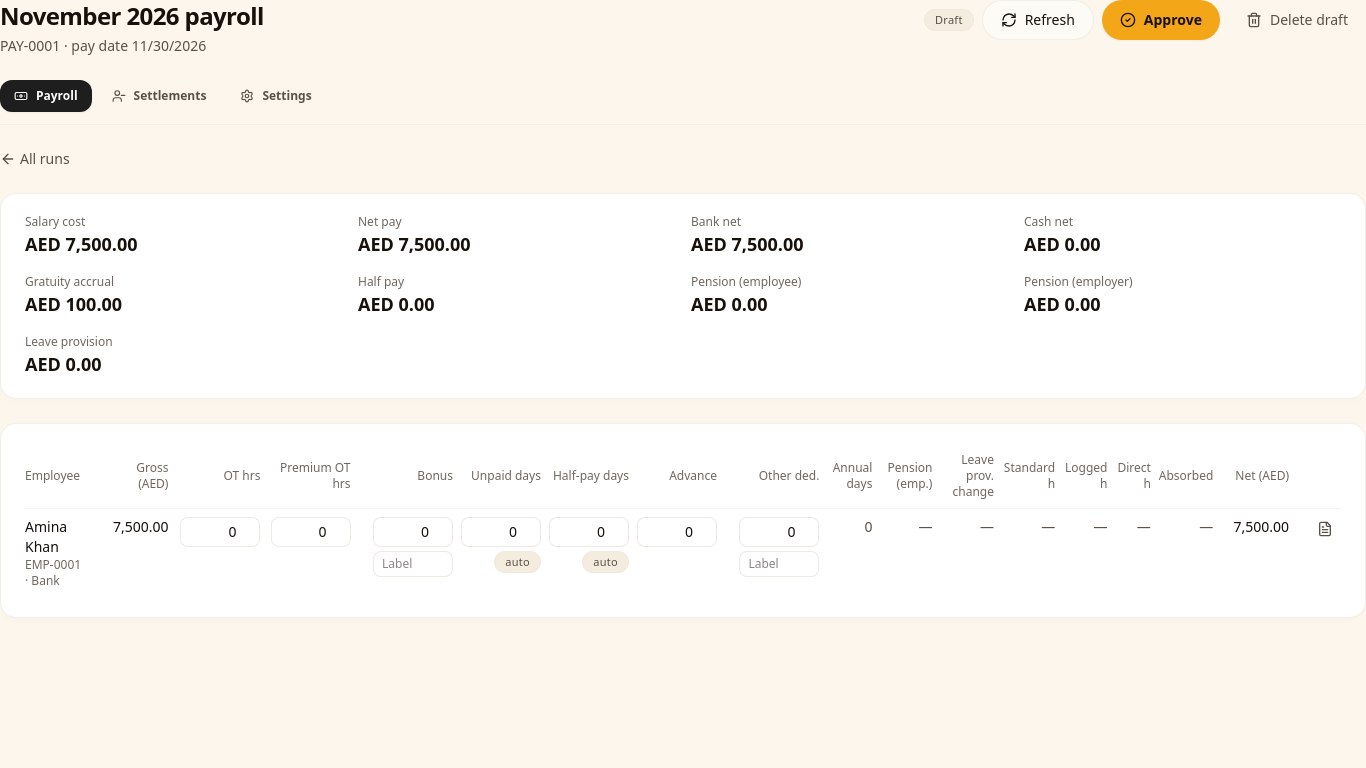
Test case: PayrollRunDetail actions › keeps Approve confirm disabled while a line edit was refused
Step 1. Replace the text in the number field named "Advance recovery for Amina Khan" with "500" → coordinates (677, 532), box x1=637 y1=517 x2=717 y2=547
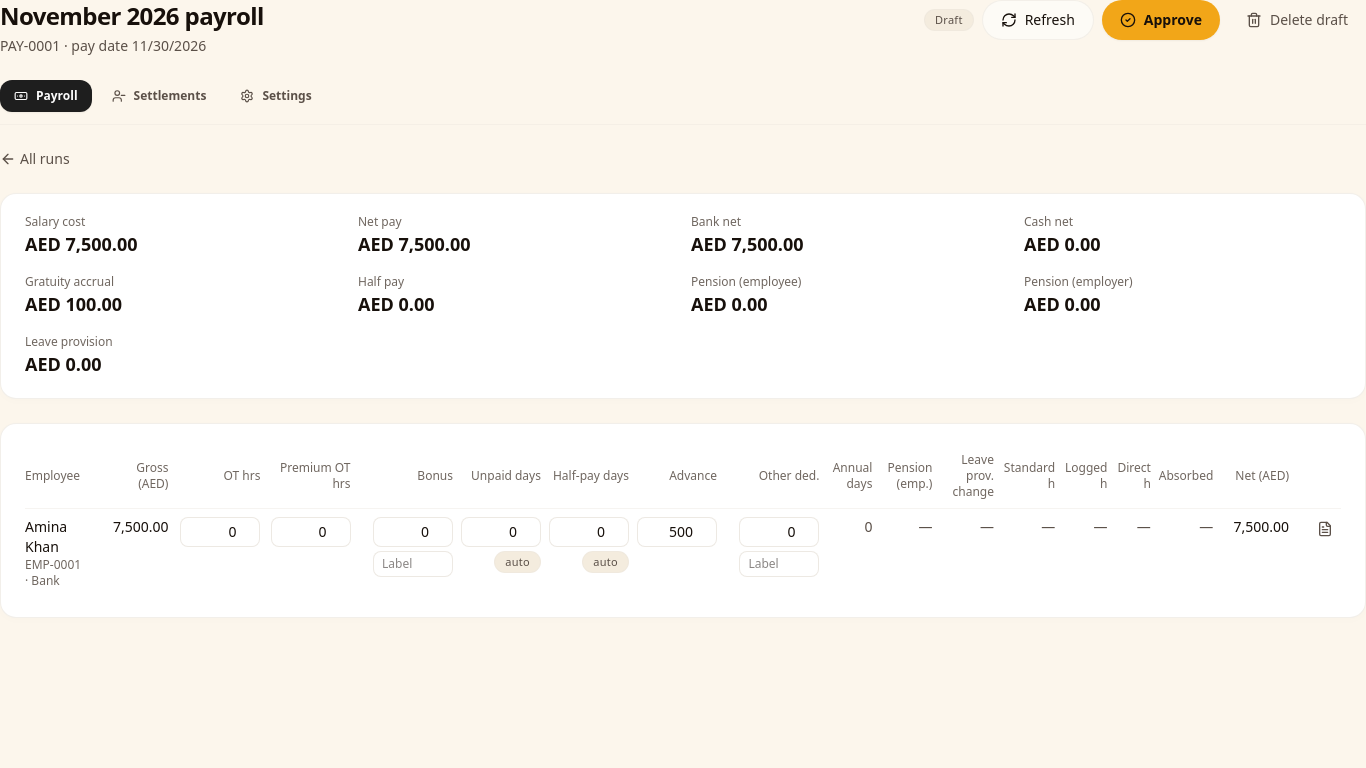
Step 2. Click the button "Approve" → coordinates (1161, 20), box x1=1102 y1=0 x2=1220 y2=40
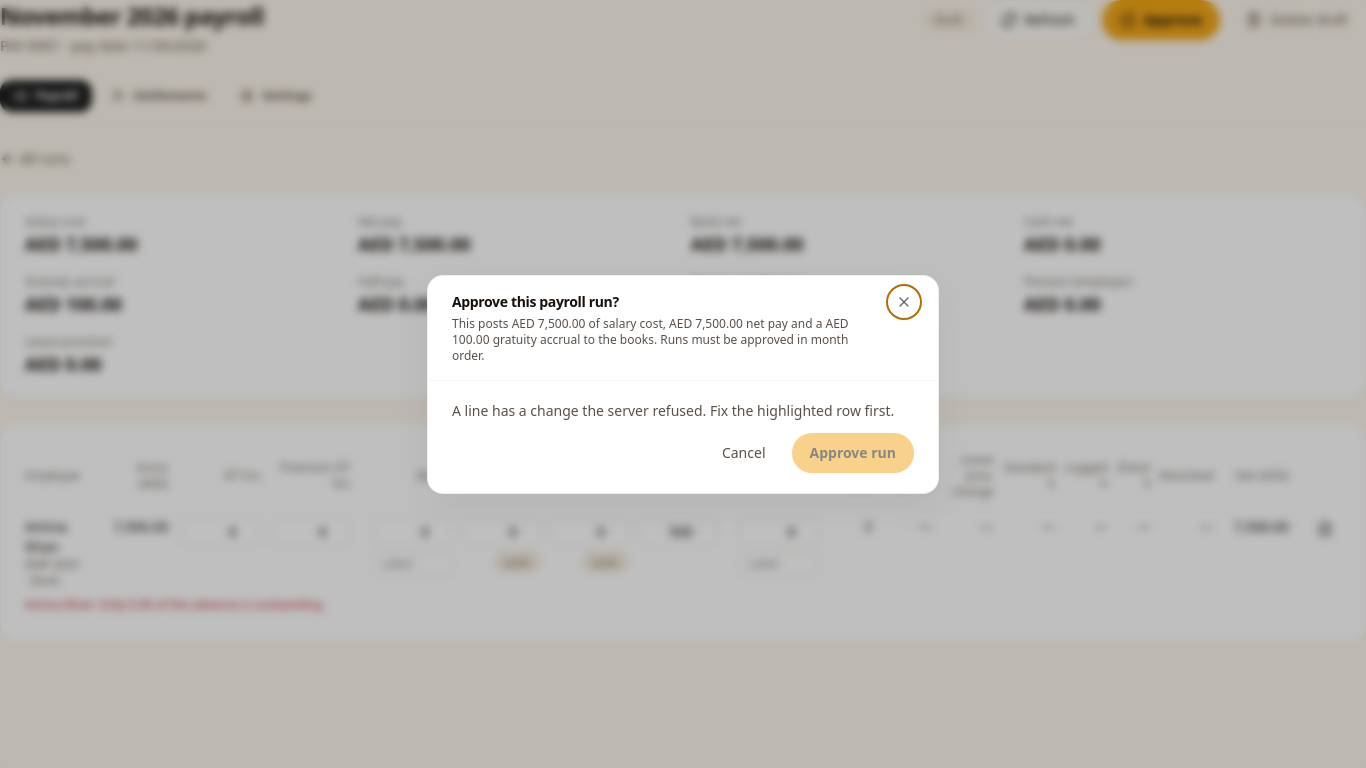
Expected: the button "Approve run" is disabled, x1=792 y1=432 x2=914 y2=472
Expected: the message with test id "confirm-blocked" shows "refused", x1=452 y1=400 x2=894 y2=420
